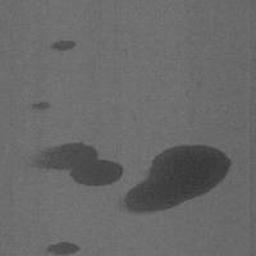Oil spot: (113, 143, 234, 216), (27, 141, 125, 188), (42, 241, 82, 256), (49, 38, 79, 54), (27, 100, 52, 113)
